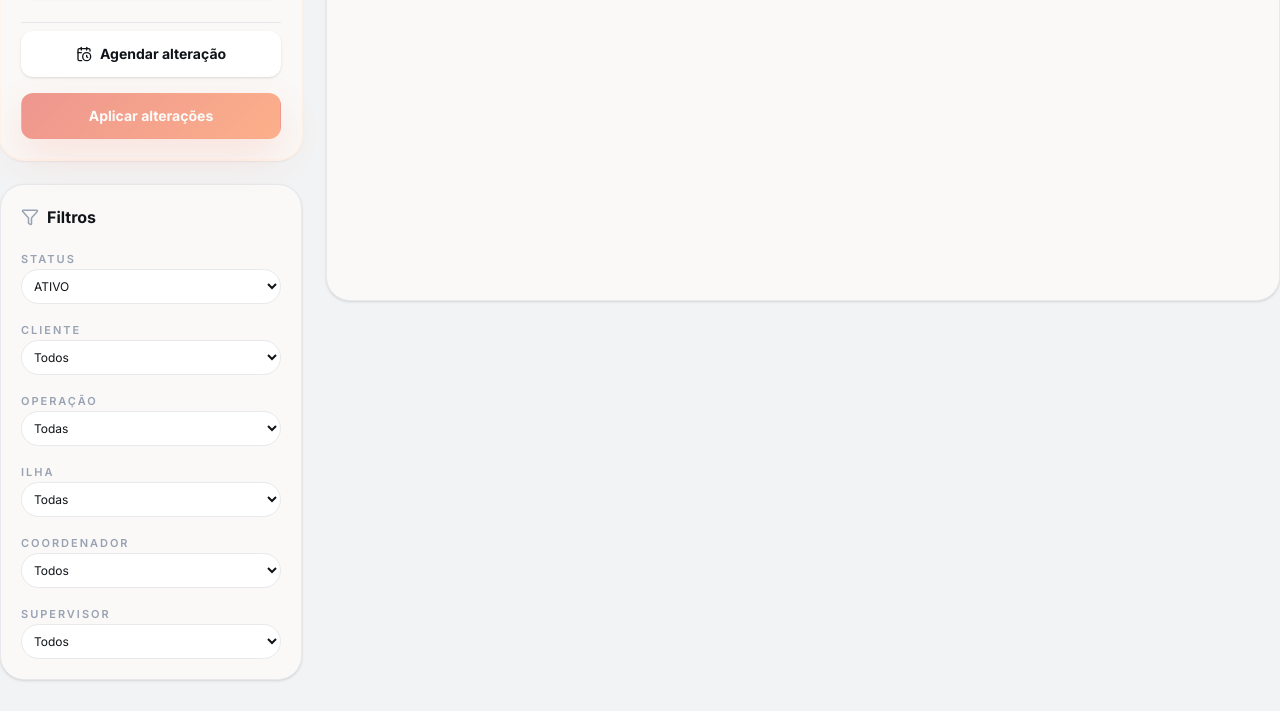
Scenario: BulkUpdatePage — filtros › mostra os filtros de Coordenador e Supervisor e filtra a lista por eles
(page scrolled)
Select "Ana Coordenadora" in the 5th dropdown. click: (151, 571)
box: [21, 553, 281, 588]
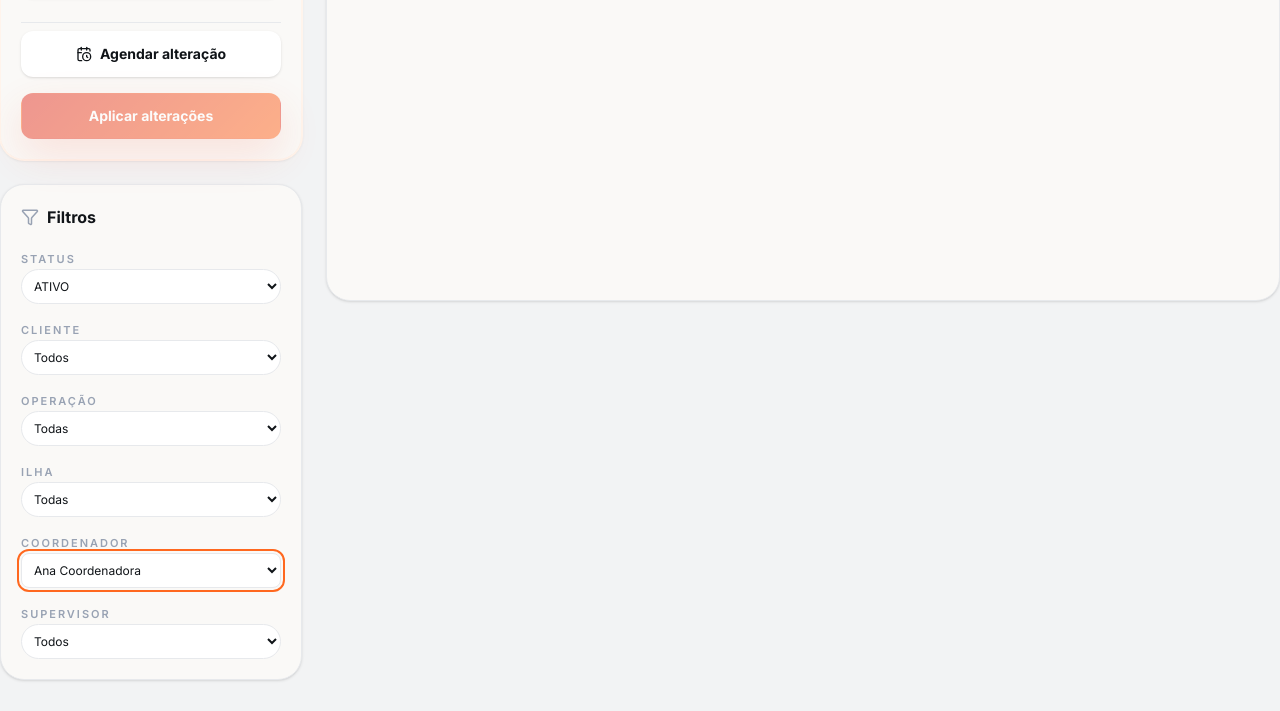
Note: limpar o Coordenador não perde a seleção de Supervisor nem quebra o filtro
Select "Todos" in the 5th dropdown. click: (151, 571)
box: [21, 553, 281, 588]
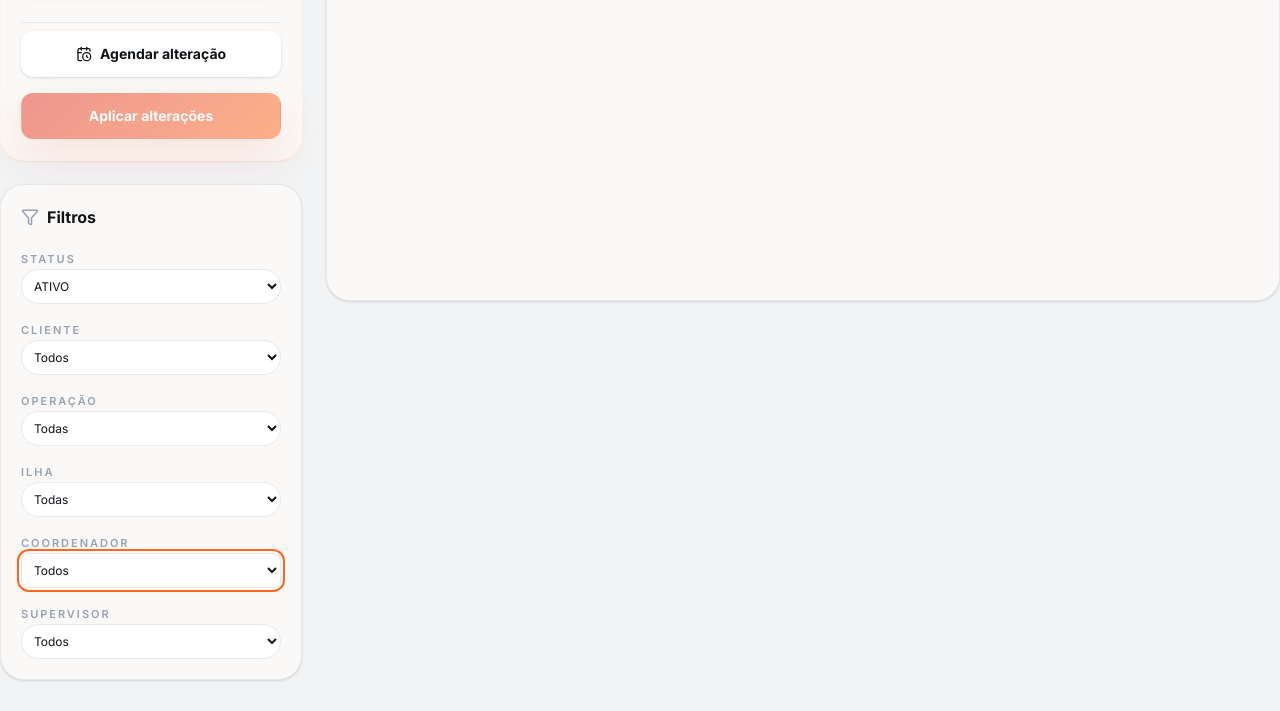
Select "Sara Supervisora" in the 6th dropdown. click: (151, 642)
box: [21, 624, 281, 659]
(page scrolled)
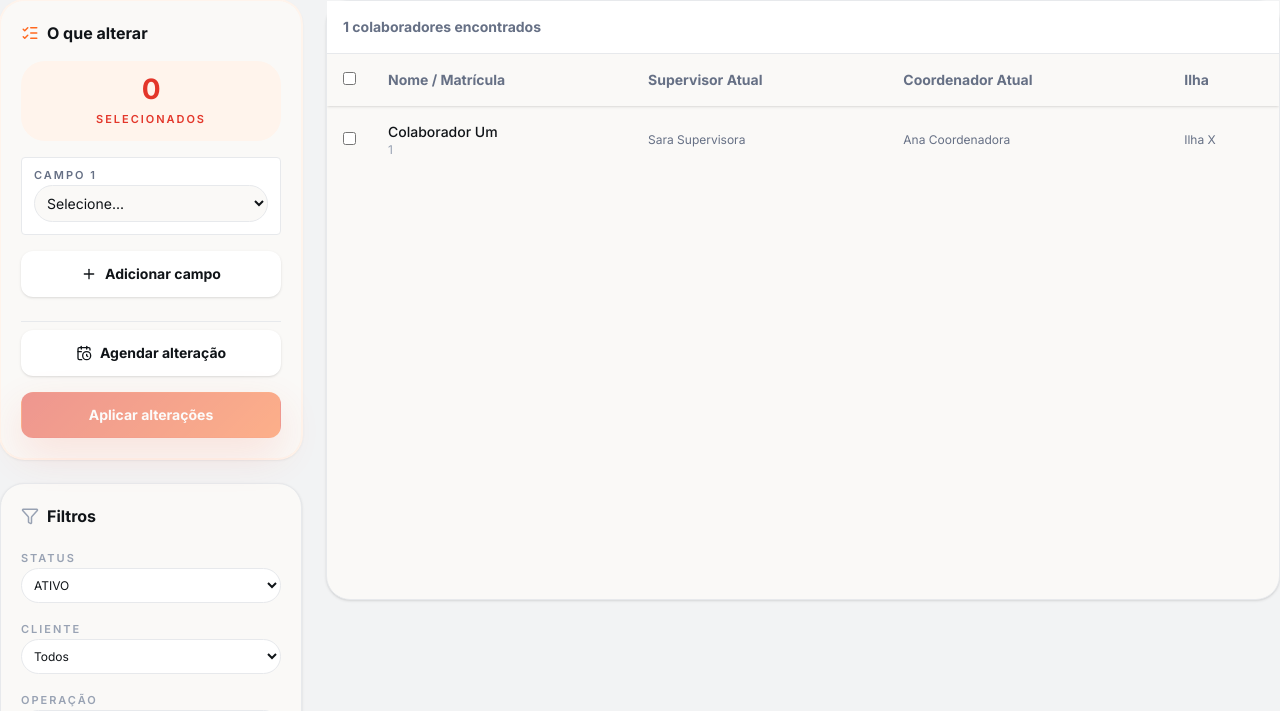
Expected: the text "Colaborador Um" is shown, [388, 123, 498, 140]
Expected: the text "1 colaboradores encontrados" is shown, [343, 17, 541, 37]
